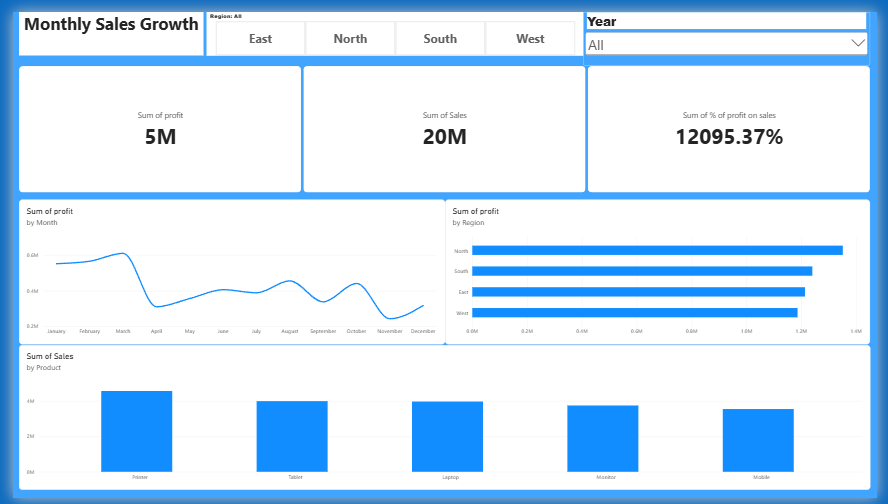

The dashboard page shown, as its layout file describes it:
{"tool":"powerbi","page":{"name":"Page 1","canvas":[1920,1080],"ordinal":0},"visuals":[{"type":"cardVisual","fields":{"Data":["Sum(salesdb sales_data.profit)","Sum(salesdb sales_data.Sales)","Sum(salesdb sales_data.% of profit on sales)"]},"box":[11.9,119.3,1892,281.5],"z":0},{"type":"lineChart","fields":{"Category":["salesdb sales_data.Order_Date.Variation.Date Hierarchy.Month"],"Y":["Sum(salesdb sales_data.profit)"]},"box":[11.9,417.5,947.2,322.1],"z":1},{"type":"barChart","fields":{"Category":["salesdb sales_data.Region"],"Y":["Sum(salesdb sales_data.profit)"]},"box":[959.1,417.5,944.8,322.1],"z":2},{"type":"columnChart","fields":{"Category":["salesdb sales_data.Product"],"Y":["Sum(salesdb sales_data.Sales)"]},"box":[11.9,739.6,1892,322.1],"z":3},{"type":"slicer","fields":{"Values":["salesdb sales_data.Order_Date.Variation.Date Hierarchy.Year"]},"box":[1266.8,0,638,118.5],"z":4},{"type":"slicer","fields":{"Values":["salesdb sales_data.Region"]},"box":[430,0,837.5,97.5],"z":5},{"type":"textbox","box":[13.3,0,410,96.7],"z":6}]}

Visuals, with their boxes in screenshot pixels (x1, y1, x2, y2), scaled from the page's 1920x1080 canvas onto the 888x504 screenshot:
cardVisual - Sum(salesdb sales_data.profit) x Sum(salesdb sales_data.Sales): locate(6, 56, 881, 187)
lineChart - salesdb sales_data.Order_Date.Variation.Date Hierarchy.Month x Sum(salesdb sales_data.profit): locate(6, 195, 444, 345)
barChart - salesdb sales_data.Region x Sum(salesdb sales_data.profit): locate(444, 195, 881, 345)
columnChart - salesdb sales_data.Product x Sum(salesdb sales_data.Sales): locate(6, 345, 881, 495)
slicer - salesdb sales_data.Order_Date.Variation.Date Hierarchy.Year: locate(586, 0, 881, 55)
slicer - salesdb sales_data.Region: locate(199, 0, 586, 46)
textbox: locate(6, 0, 196, 45)
